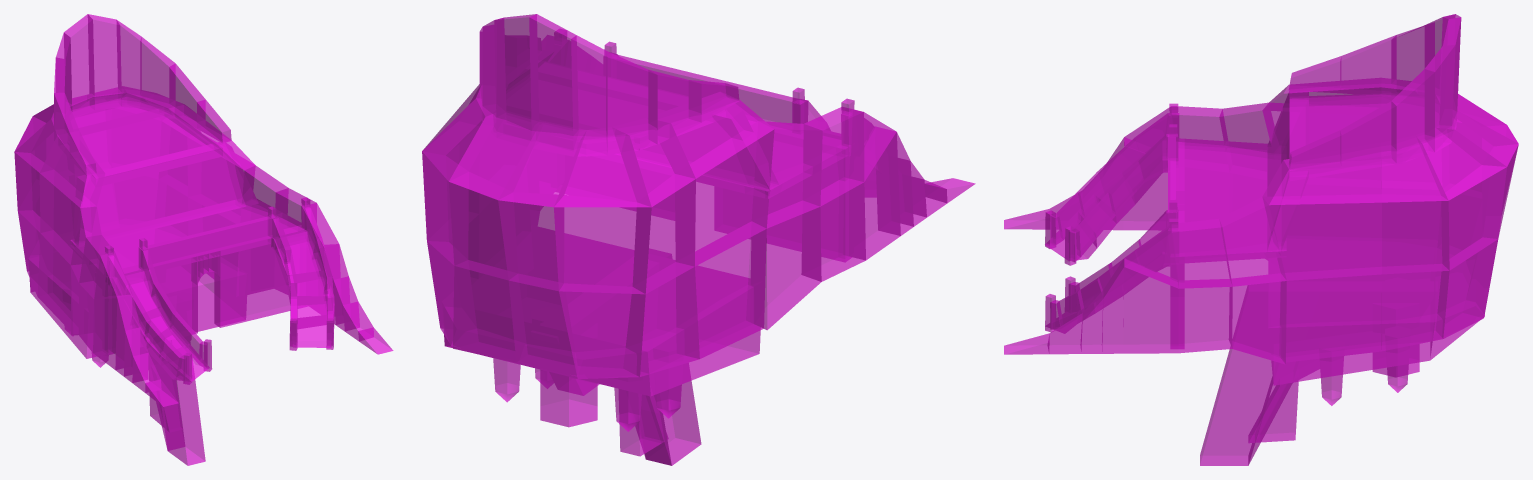
File: SM_Veh_Ship_L_Back_01_Collision.fbx
3 renders of one model, left to right at view 1: azimuth 30°, elevation 25°; view 2: azimuth 150°, elevation 25°; view 3: azimuth 270°, elevation 25°, orthographic. The views are drawn at different scales.
Visible parts, largest first — view 1: SM_Veh_Ship_L_Back_01_Collision; view 2: SM_Veh_Ship_L_Back_01_Collision; view 3: SM_Veh_Ship_L_Back_01_Collision.
Boxes of the visible parts, box(x1,y1,x2,y2) form: SM_Veh_Ship_L_Back_01_Collision: box(14, 14, 393, 465); SM_Veh_Ship_L_Back_01_Collision: box(422, 14, 975, 465); SM_Veh_Ship_L_Back_01_Collision: box(1004, 14, 1518, 465).
Bounding box in the file's own units: 1035 × 1590 × 1672.
